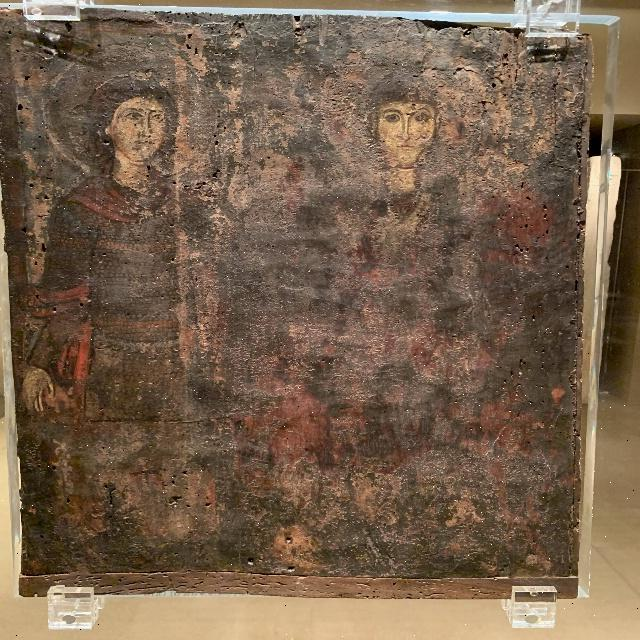aura: (43, 36, 225, 173), (322, 44, 508, 175)
saint: (221, 51, 508, 569), (19, 40, 221, 570)
